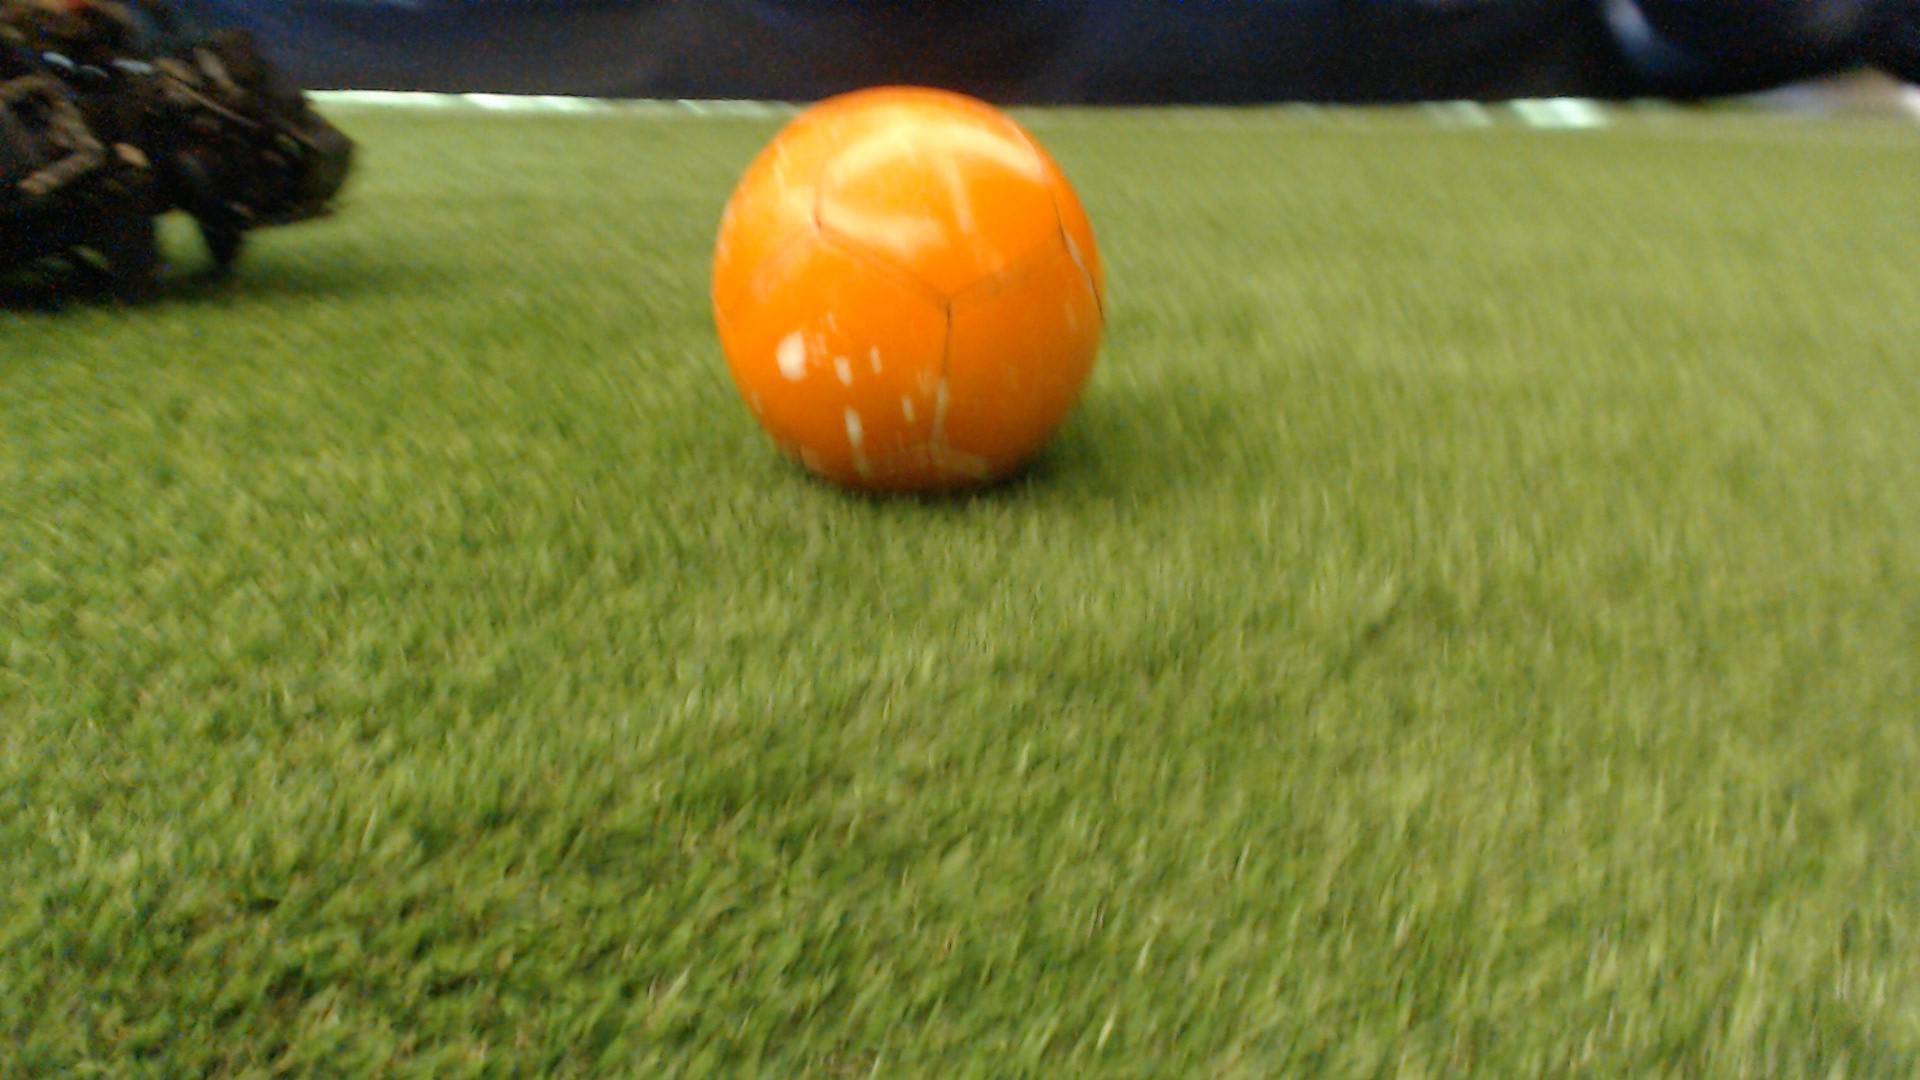bola: (673, 44, 1163, 545)
